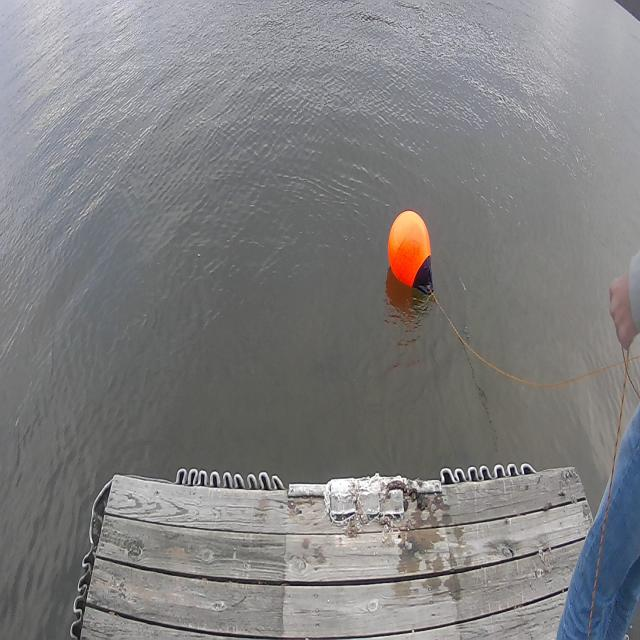Buoy: (382, 201, 444, 306)
